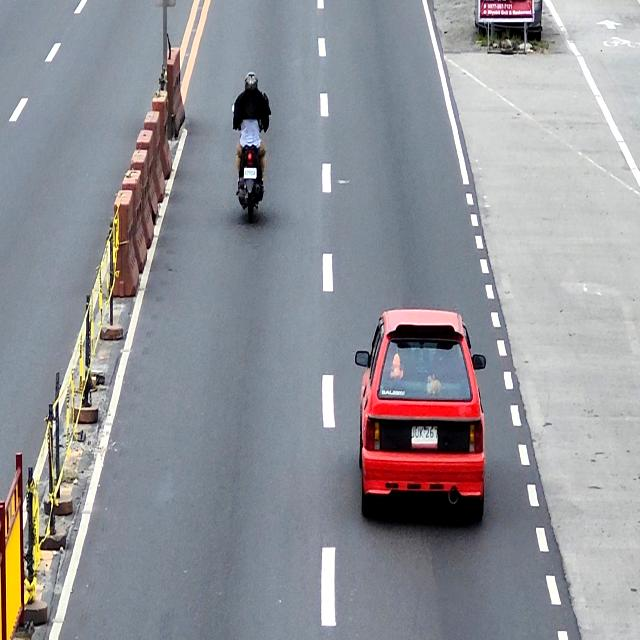Car: (355, 308, 486, 526)
License-Plate: (411, 426, 438, 444), (244, 166, 258, 180)
Motorcycle: (232, 101, 266, 223)
